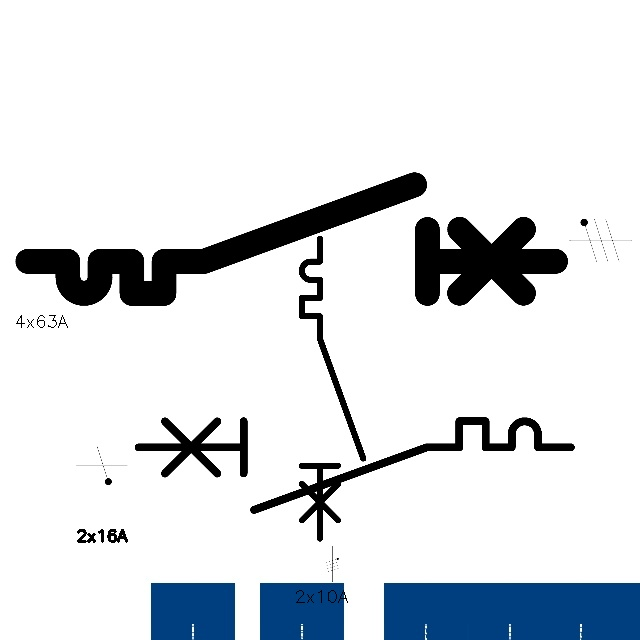interruptor_termomagnetico: (14, 171, 569, 307), (127, 410, 582, 521), (294, 231, 371, 546)
